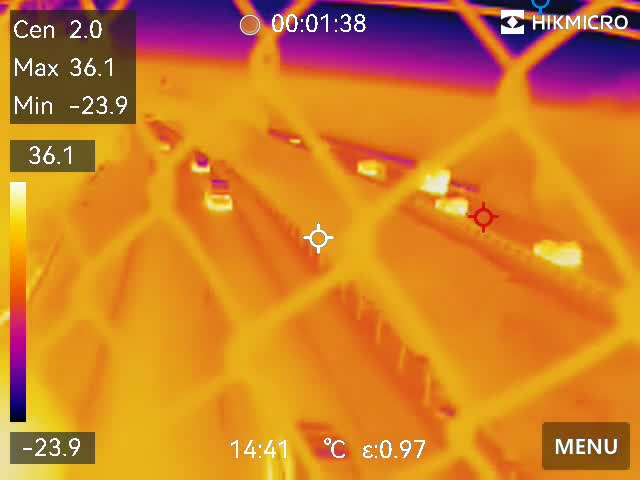vehicle: (263, 421, 356, 480), (403, 162, 454, 196), (532, 239, 586, 268), (204, 174, 233, 213), (430, 193, 473, 218), (354, 157, 386, 183), (189, 145, 211, 176)
